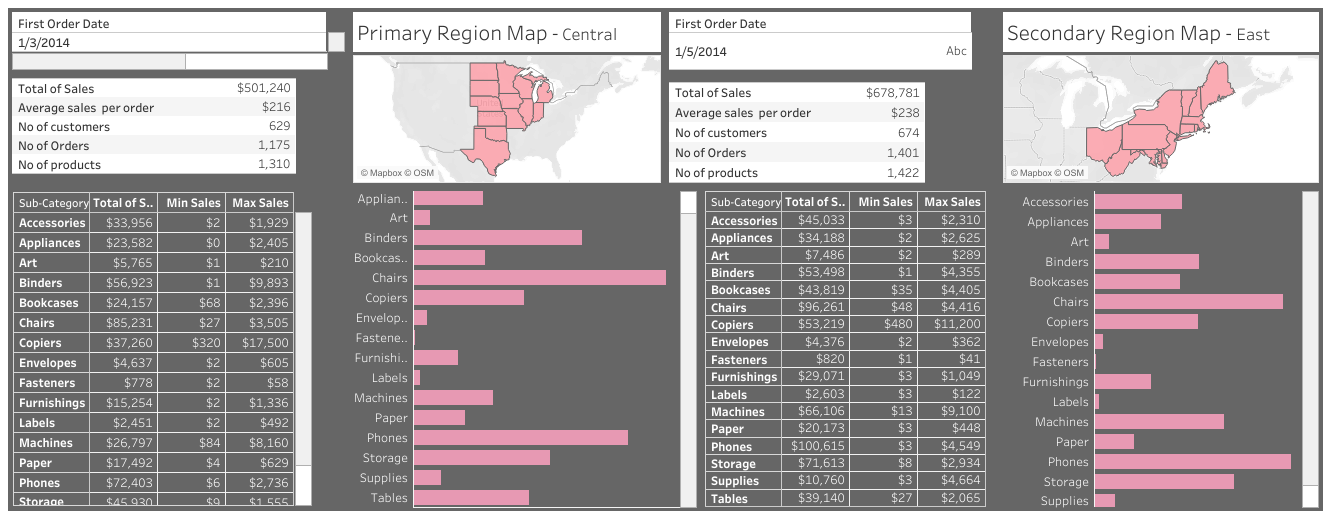

What the dashboard file says about the page in this screenshot:
{"tool":"tableau","page":{"name":"Dashboard 1","canvas":[1000,1000],"units":"permille","ordinal":0},"visuals":[{"type":"worksheet","title":"First order date Central","mark":"Automatic","rows":["Calculation_1720375069032189953"],"box":[6.9,13.5,255.4,111.5]},{"type":"worksheet","title":"Primary Region Map","mark":"Multipolygon","box":[262.3,13.5,237.6,346.3]},{"type":"worksheet","title":"First order date East","mark":"Automatic","rows":["Calculation_1720375069032189953"],"box":[500,13.5,249.8,118.2]},{"type":"worksheet","title":"Secondary Region Map","mark":"Multipolygon","box":[749.8,13.5,243.3,346.3]},{"type":"worksheet","title":"Sales Central","mark":"Automatic","box":[6.9,125,255.4,175.7]},{"type":"worksheet","title":"Sales East","mark":"Automatic","box":[500,131.8,249.8,228]},{"type":"worksheet","title":"Table Central","mark":"Automatic","rows":["Sub-Category"],"box":[6.9,359.8,255.4,626.7]},{"type":"worksheet","title":"Bar chart Central","mark":"Automatic","rows":["Sub-Category"],"cols":["Sales"],"box":[262.3,359.8,230.5,626.7]},{"type":"worksheet","title":"Table East","mark":"Automatic","rows":["Sub-Category"],"box":[492.8,359.8,250.2,626.7]},{"type":"worksheet","title":"Bar chart East","mark":"Automatic","rows":["Sub-Category"],"cols":["Sales"],"box":[743,359.8,250.1,626.7]}]}

Visuals, with their boxes on the dashboard's canvas, which has no fixed pixel size, in thousandths of its width and height (x1, y1, x2, y2). These are canvas units, not pixel positions in the 1330x518 screenshot, which may show the page scaled, cropped or inside an application window:
"First order date Central" worksheet: 7,14,262,125
"Primary Region Map" worksheet (Multipolygon marks): 262,14,500,360
"First order date East" worksheet: 500,14,750,132
"Secondary Region Map" worksheet (Multipolygon marks): 750,14,993,360
"Sales Central" worksheet: 7,125,262,301
"Sales East" worksheet: 500,132,750,360
"Table Central" worksheet: 7,360,262,986
"Bar chart Central" worksheet: 262,360,493,986
"Table East" worksheet: 493,360,743,986
"Bar chart East" worksheet: 743,360,993,986
